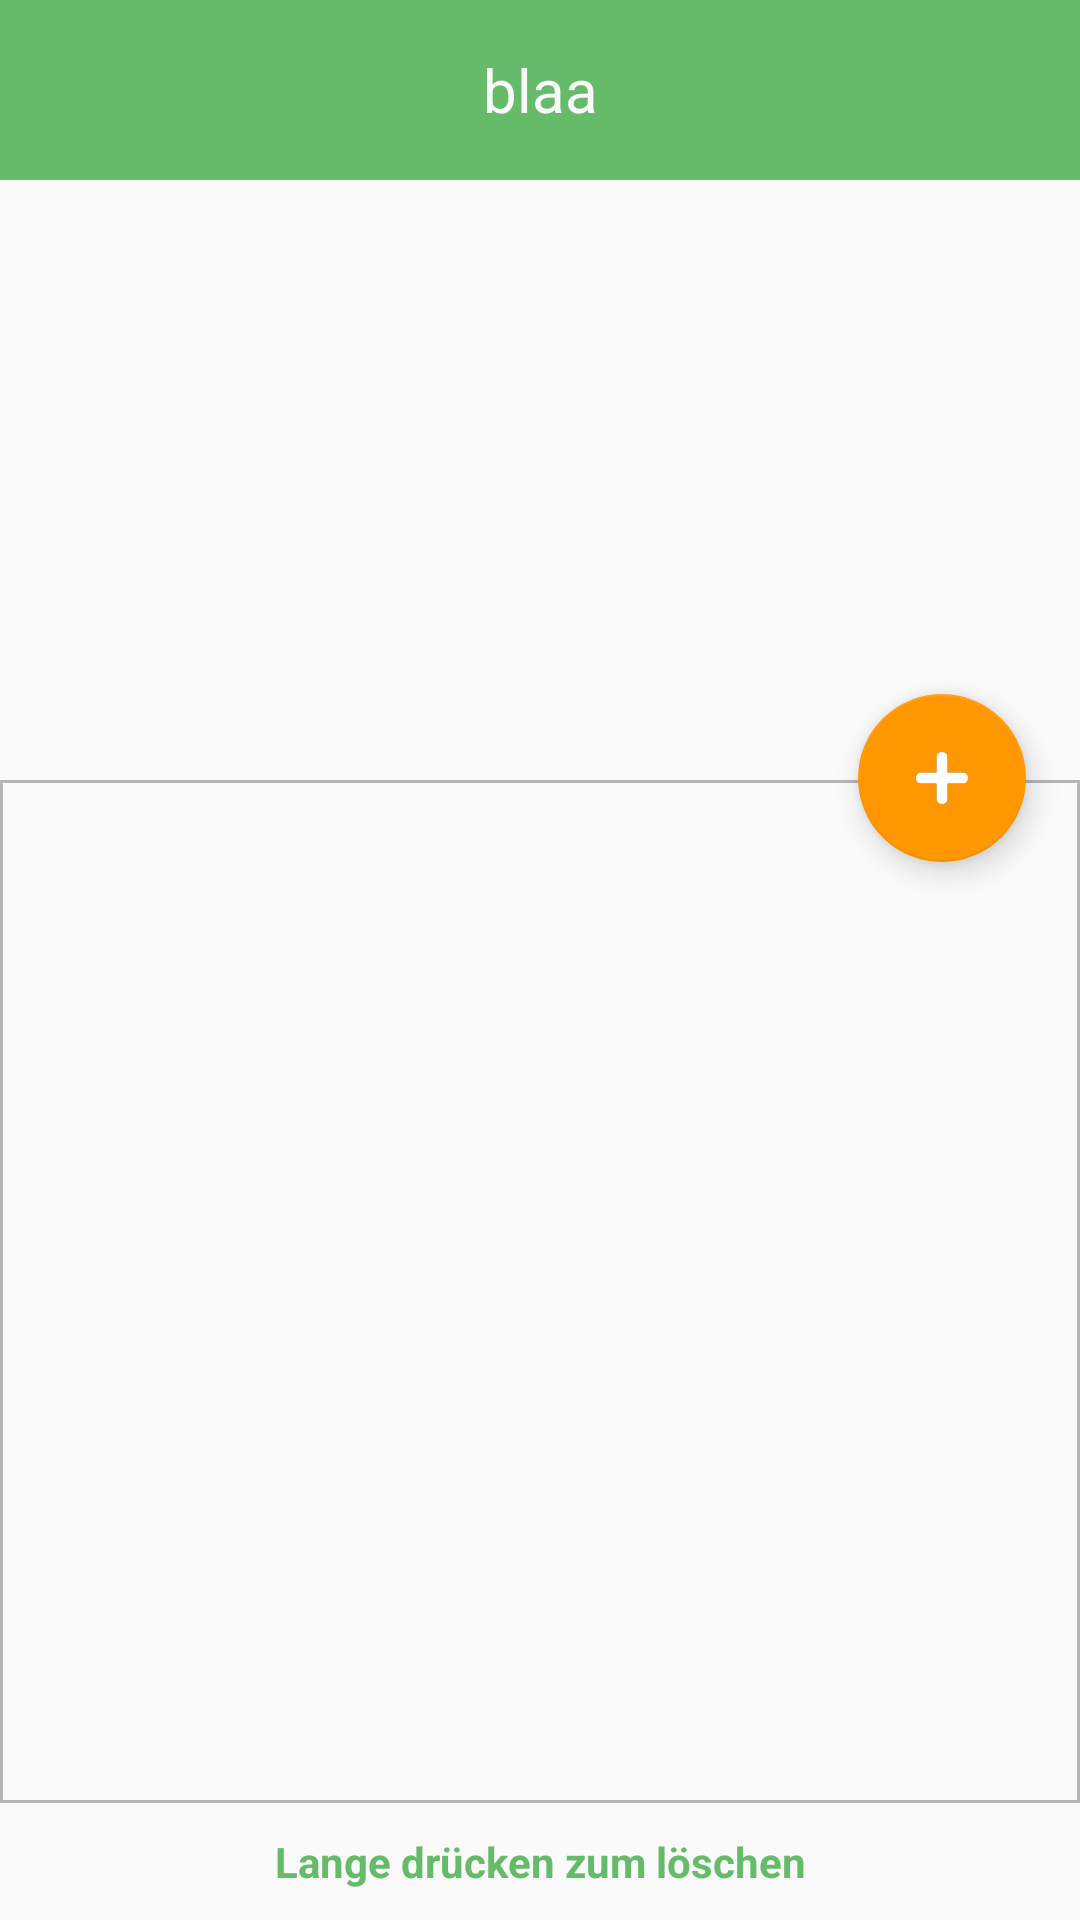

Icon bounding boxes for this 1080×1920 phone screenshot, format {"left": x1, "top": y1, "right": x2, "bottom": y2}:
addnewcross: {"left": 858, "top": 694, "right": 1026, "bottom": 862}
